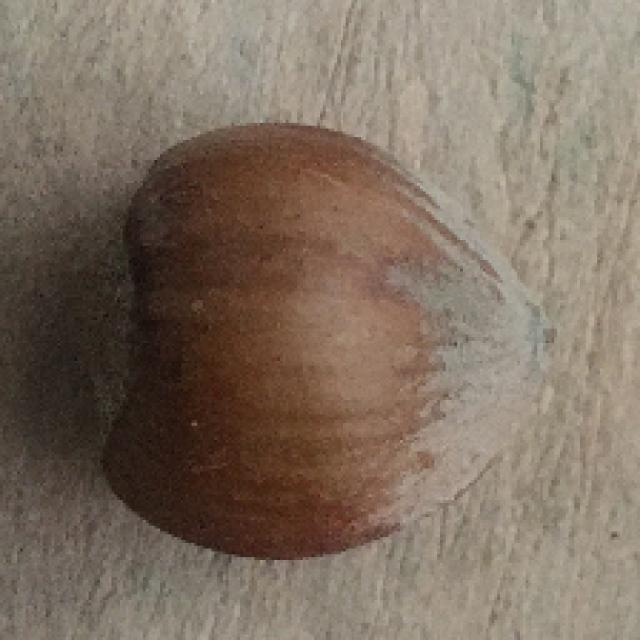qualityHazelnut: (70, 119, 546, 556)
